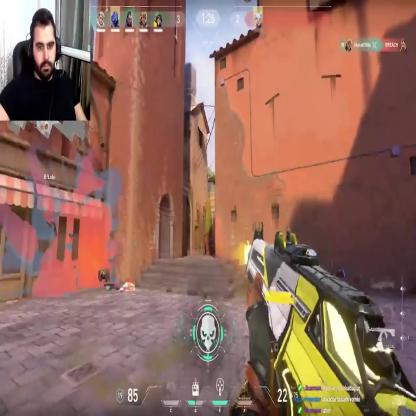enemy: (200, 197, 207, 223)
enemy_head: (203, 199, 206, 205)
